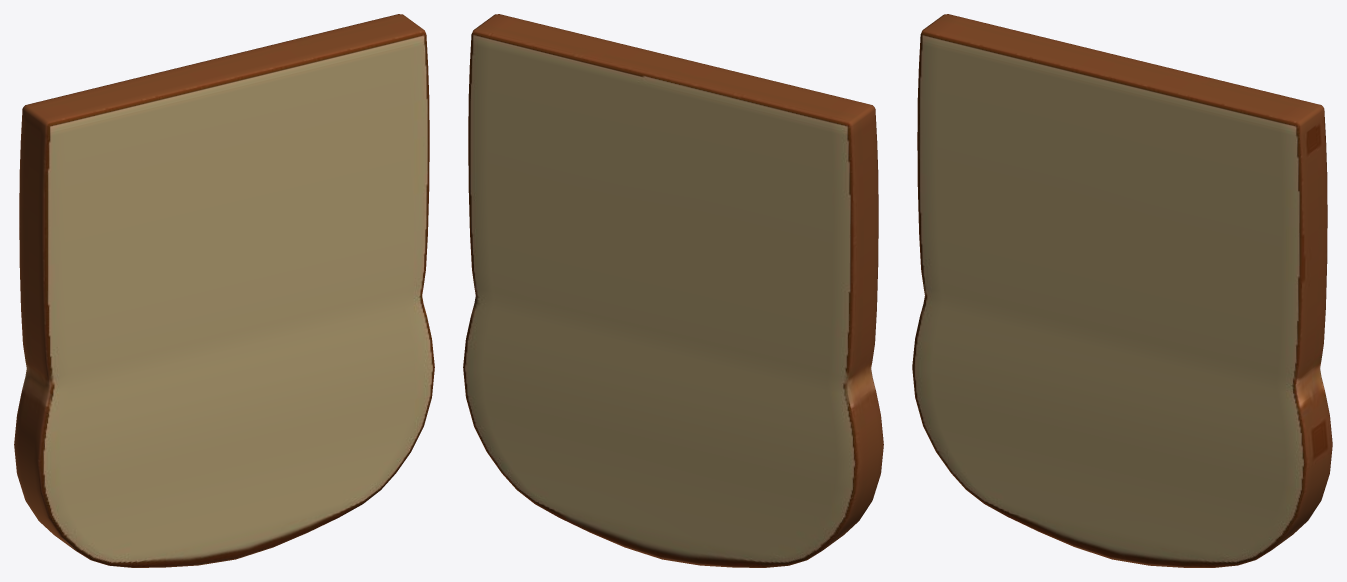
3 views of the same model, side by side, from view 1: azimuth 30°, elevation 25°; view 2: azimuth 150°, elevation 25°; view 3: azimuth 330°, elevation 25° (orthographic).
Visible parts, largest first — view 1: Bread_Slice; view 2: Bread_Slice; view 3: Bread_Slice.
Part boxes in pixels (x1,y1,x2,y2): Bread_Slice: (14, 14, 434, 567); Bread_Slice: (463, 14, 883, 567); Bread_Slice: (912, 14, 1332, 567).
Bounding box in the file's own units: 0.0986 × 0.115 × 0.0117.
1 material, 1 textured.
